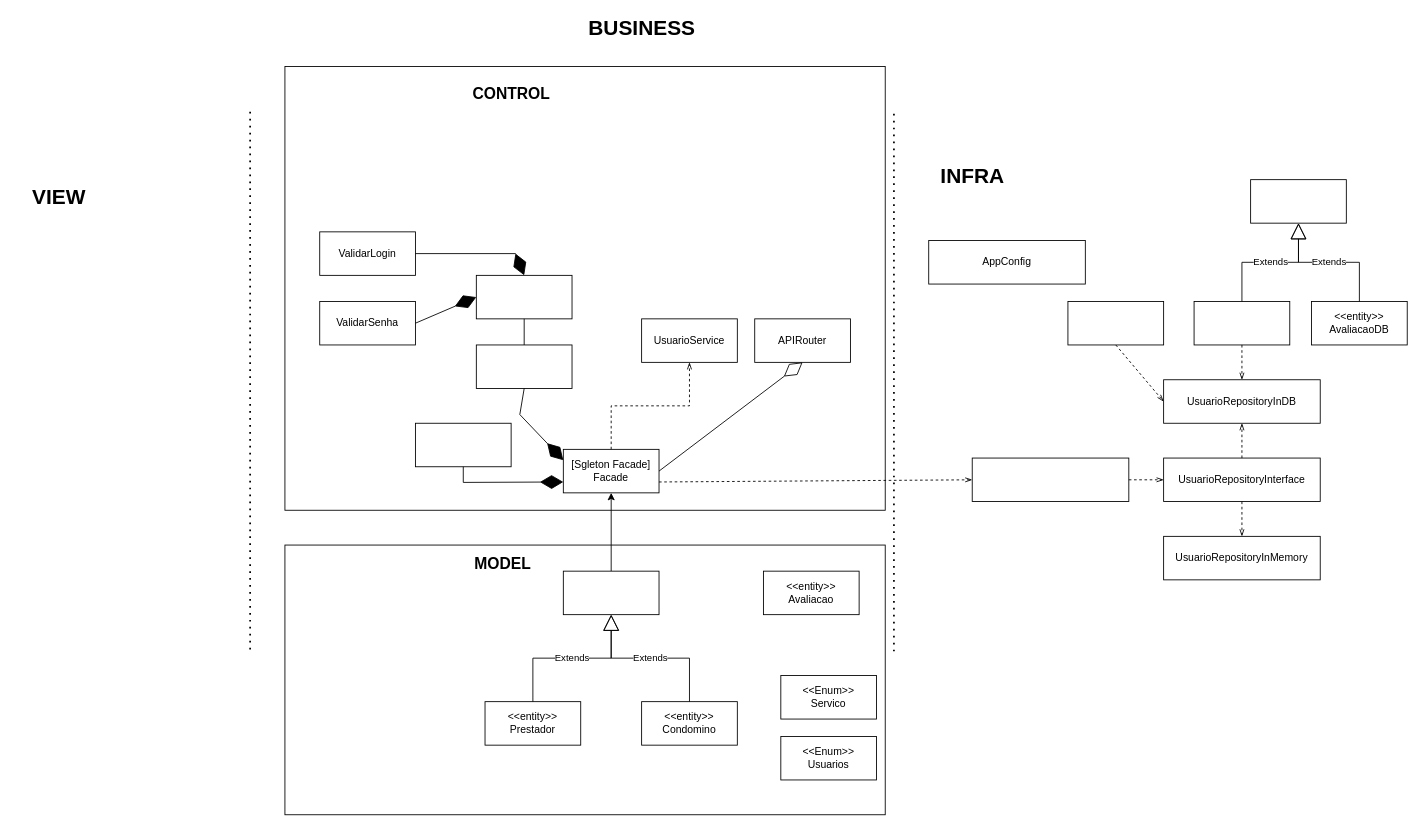
Some shapes in this 1422 by 830 pixel diagram are drawn without their labels. Here are the shapes that lost their labels. From the top down, the centre of each, then its label:
At point (1298, 201): "Base".
At point (523, 296): "ValidarUsuario".
At point (1115, 323): "Session".
At point (1241, 323): "<<entity>> UsuarioDB".
At point (523, 366): "UsuarioController".
At point (463, 444): "AvaliacaoController".
At point (1050, 479): "UsuarioRepositoryFactory".
At point (610, 592): "<<entity>> Usuario".
